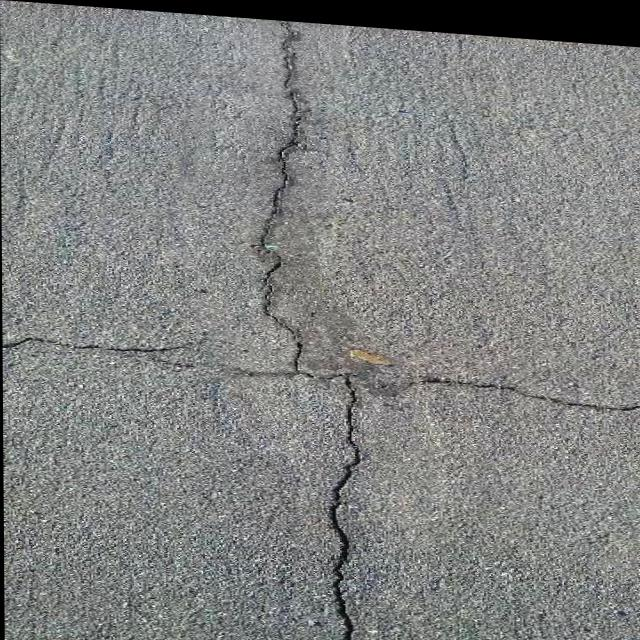Crack: (237, 14, 396, 640), (393, 352, 640, 412), (7, 315, 210, 381)
